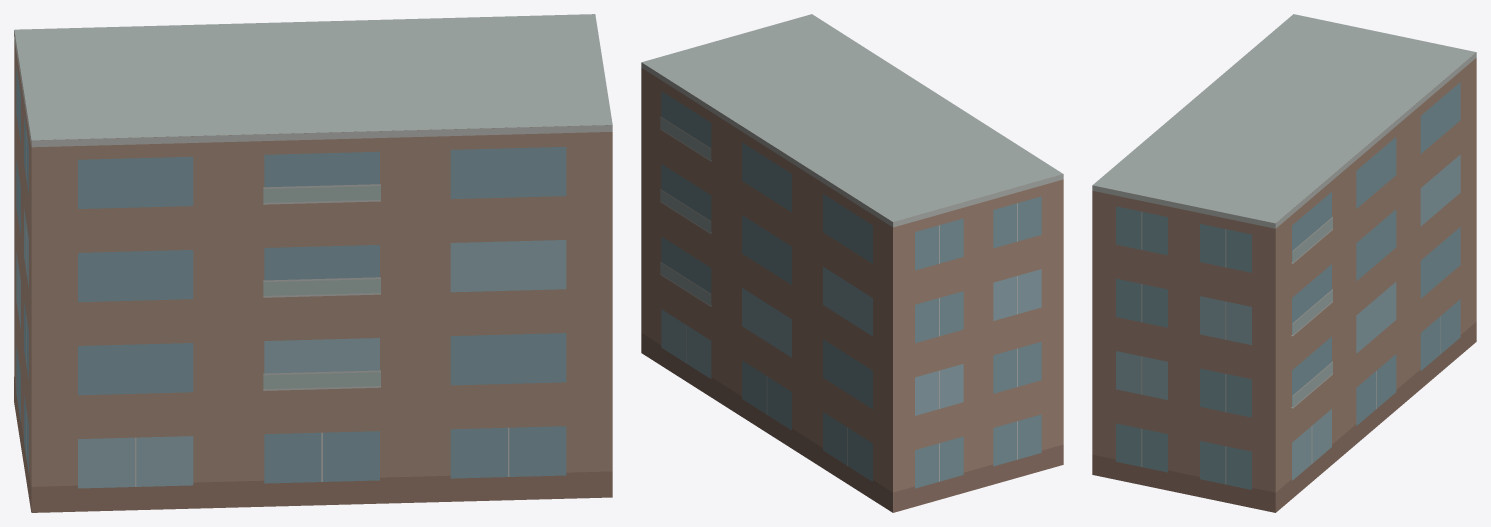
The model's file is survey-upis-32844516.glb.
The picture shows the model from 3 angles, left to right: view 1: azimuth 30°, elevation 25°; view 2: azimuth 150°, elevation 25°; view 3: azimuth 270°, elevation 25°; orthographic projection. The views are drawn at different scales.
Visible parts, largest first — view 1: survey-upis-32844516.tmp; view 2: survey-upis-32844516.tmp; view 3: survey-upis-32844516.tmp.
Boxes of the visible parts, left/top/right/bottom form: survey-upis-32844516.tmp: left=14, top=14, right=612, bottom=512; survey-upis-32844516.tmp: left=641, top=14, right=1063, bottom=512; survey-upis-32844516.tmp: left=1092, top=14, right=1476, bottom=512.
Bounding box in the file's own units: 20.41 × 13.15 × 15.83.
